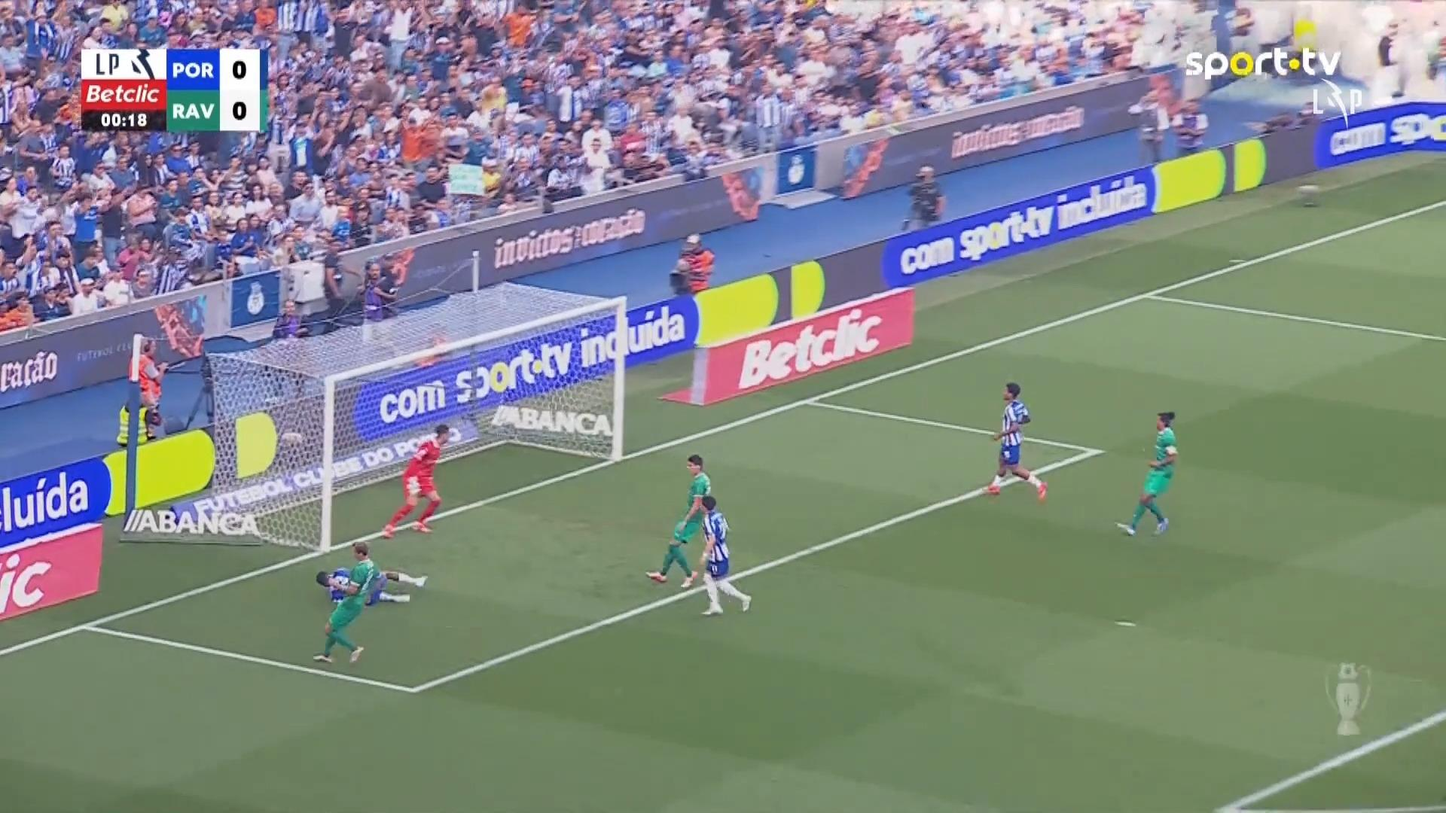goalkeeper: (380, 422, 455, 538)
player: (644, 452, 711, 588), (1115, 410, 1178, 536), (313, 538, 375, 664), (984, 381, 1047, 501), (697, 494, 752, 616), (316, 565, 428, 604)
